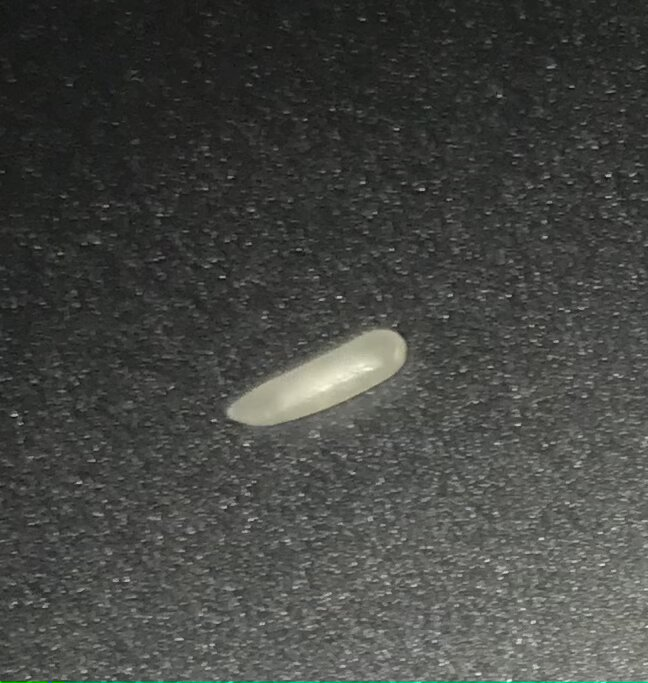Gao Long Lai: (222, 325, 416, 435)
